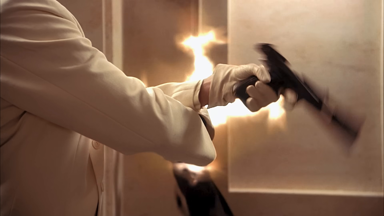firearm: (230, 32, 367, 155)
